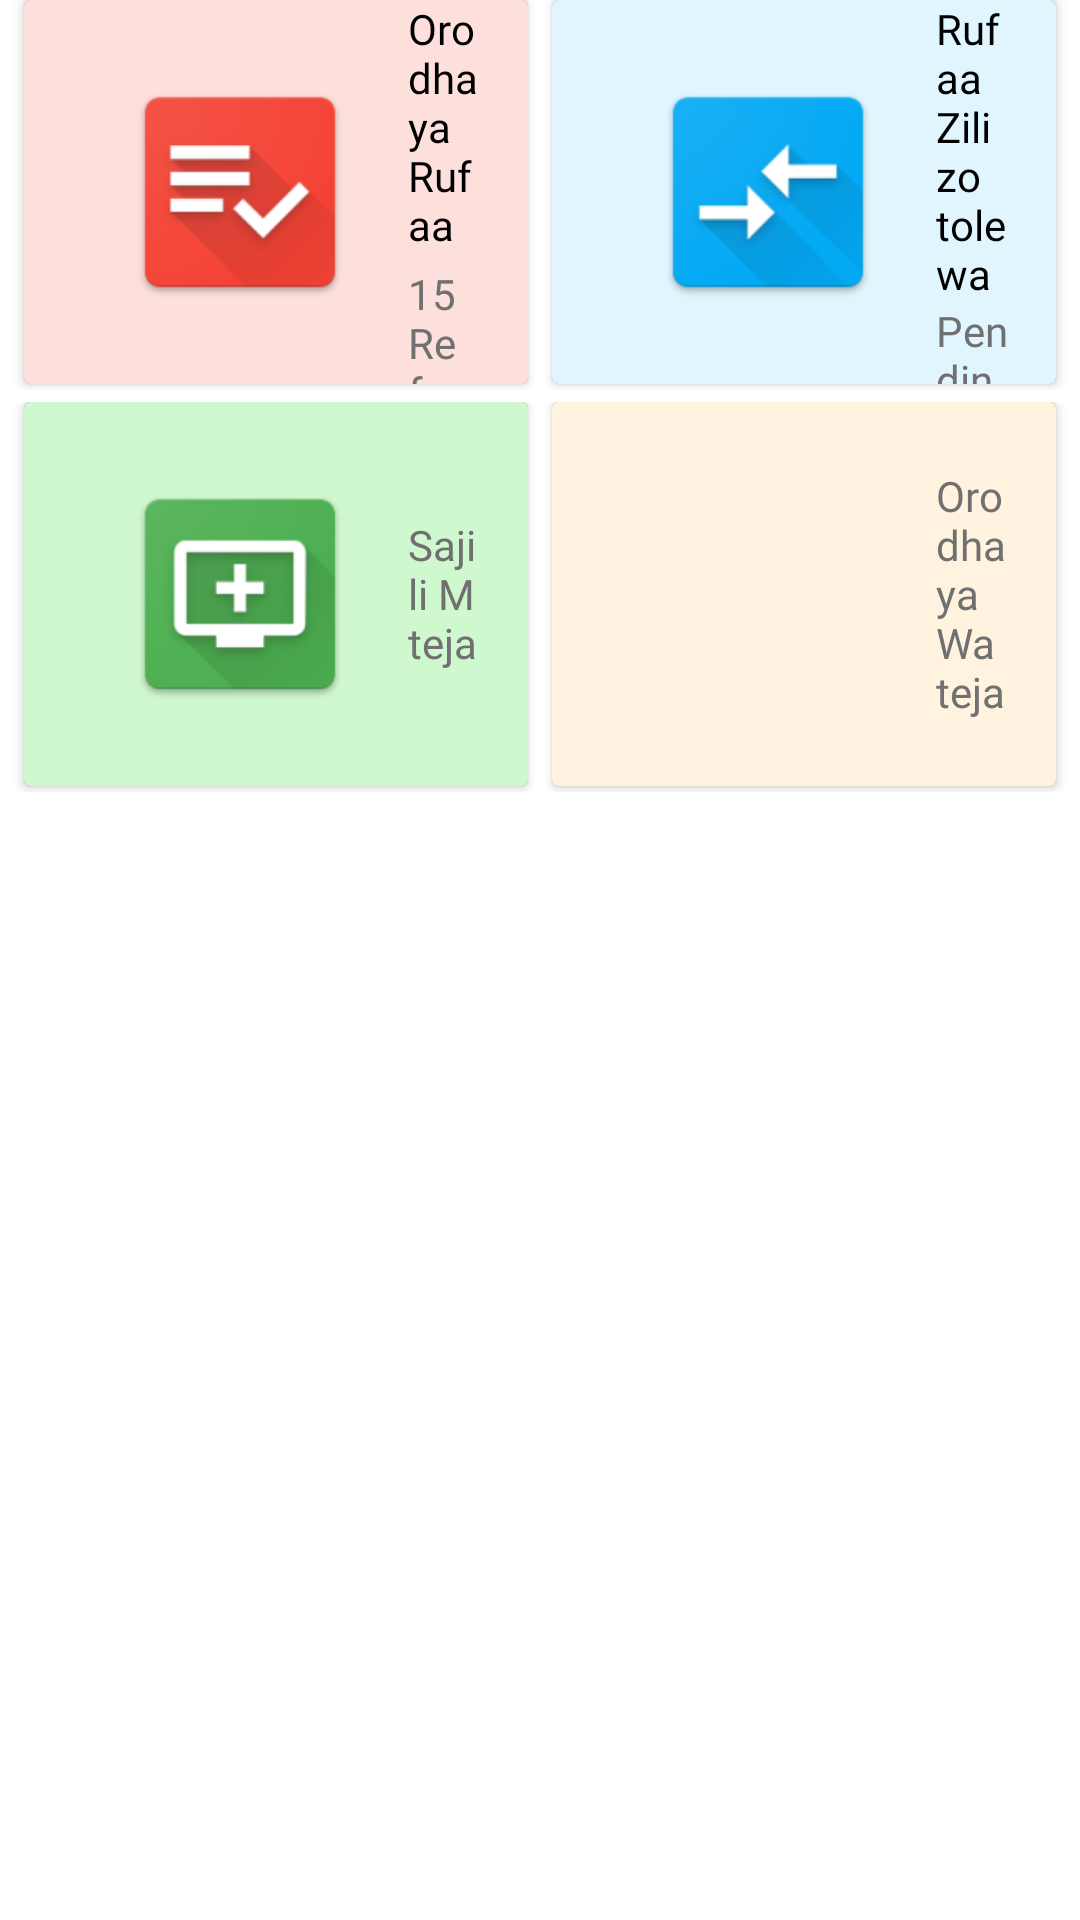

Icons on this 1080 × 1920 Android screen, each with its box as rect(x1, y1, x2, y2):
list: rect(143, 96, 337, 292)
